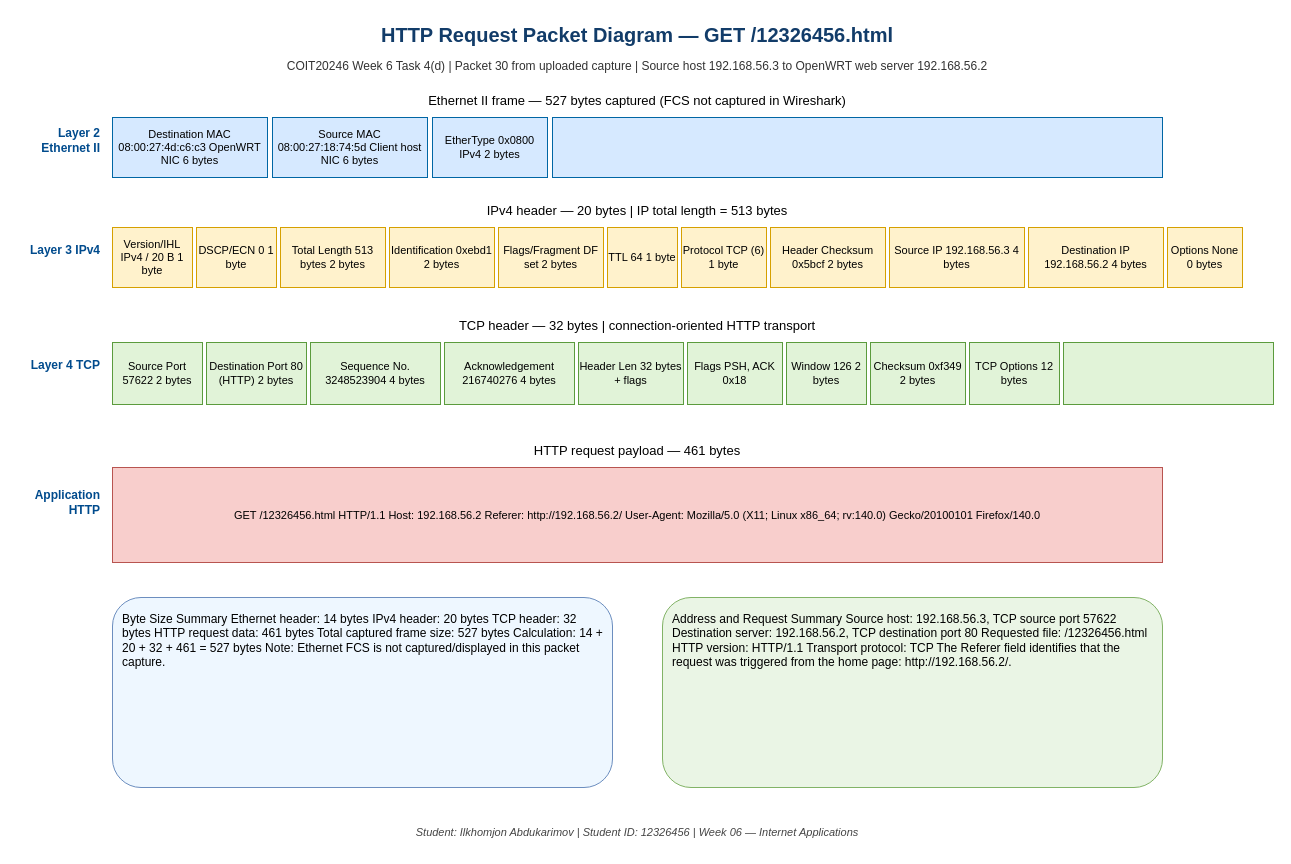
Some shapes in this 1291 by 864 pixel diagram are drawn without their labels. The box of each missing label's shape, as (x1, y1, x2, y2) in pixels:
Payload carried by Ethernet frame IPv4 packet = 513 bytes: (552, 116, 1162, 178)
TCP Payload HTTP request = 461 bytes: (1062, 342, 1274, 404)
